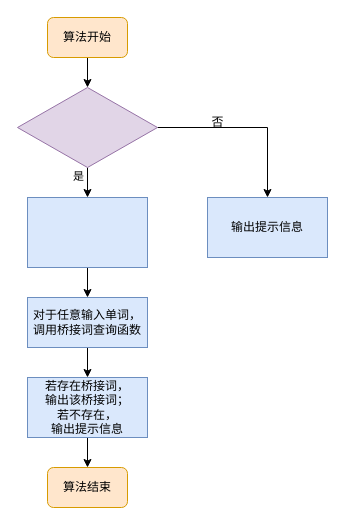
The diagram is 345 pixels wide and 525 high, and some of its shapes have lost their labels. The shapes that lost their labels are listed below. From the top down, each one's centre as x and y in pixels, then its label:
point (87, 127): 检查word1和word2 是否在图中
point (87, 232): 初始化空集合， 遍历word1的邻居， 检查每个邻居是否有边到word2， 将其添加到集合
